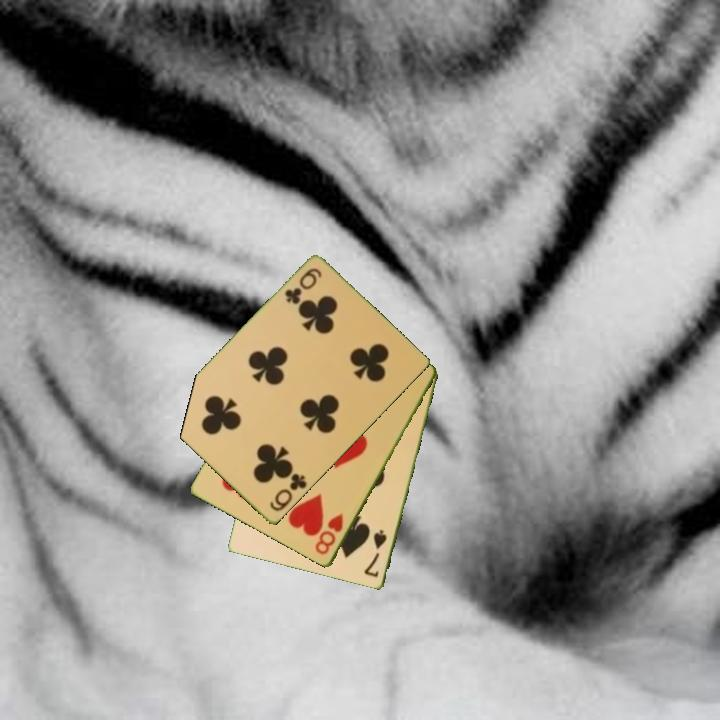6c: (266, 470, 310, 514), (281, 265, 325, 308)
7s: (361, 527, 390, 581)
8h: (312, 510, 346, 558)
